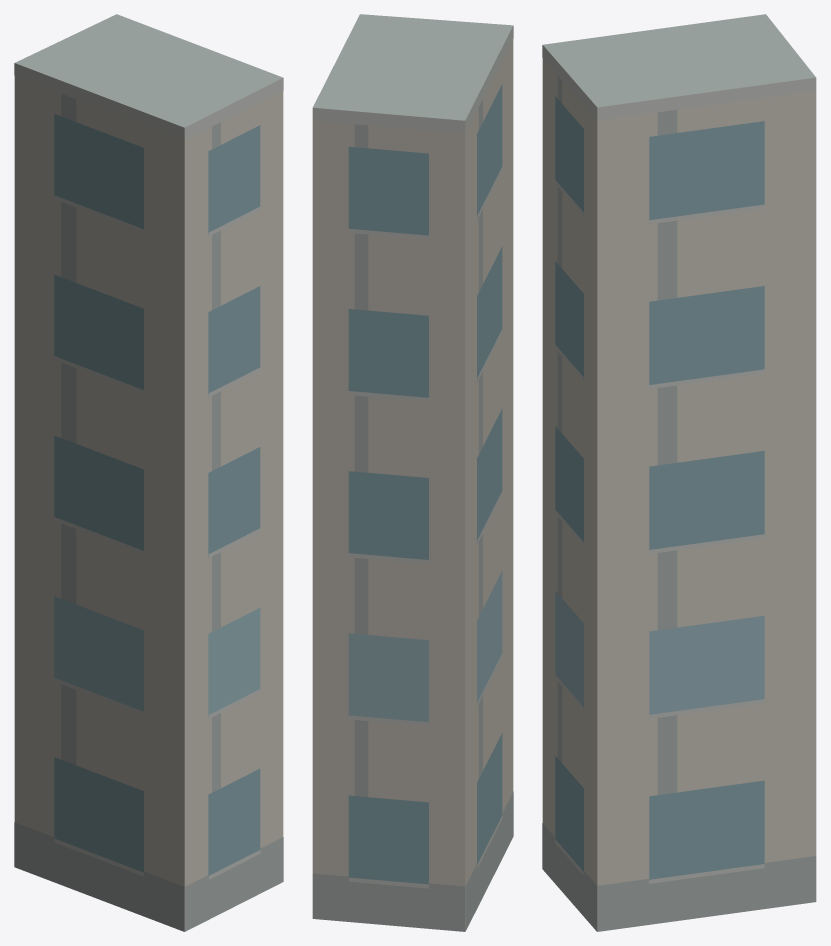
Rendered from survey-upis-32821946.glb.
3 renders of one model, left to right at view 1: azimuth 30°, elevation 25°; view 2: azimuth 150°, elevation 25°; view 3: azimuth 270°, elevation 25°, orthographic. The views are drawn at different scales.
Parts seen in each view (by area): view 1: survey-upis-32821946.tmp; view 2: survey-upis-32821946.tmp; view 3: survey-upis-32821946.tmp.
Boxes of the visible parts, bbox=[...] form: survey-upis-32821946.tmp: bbox=[14, 14, 283, 931]; survey-upis-32821946.tmp: bbox=[312, 14, 513, 931]; survey-upis-32821946.tmp: bbox=[542, 14, 816, 931].
Size of the model in its own units: 3.71 by 15.25 by 4.6.
